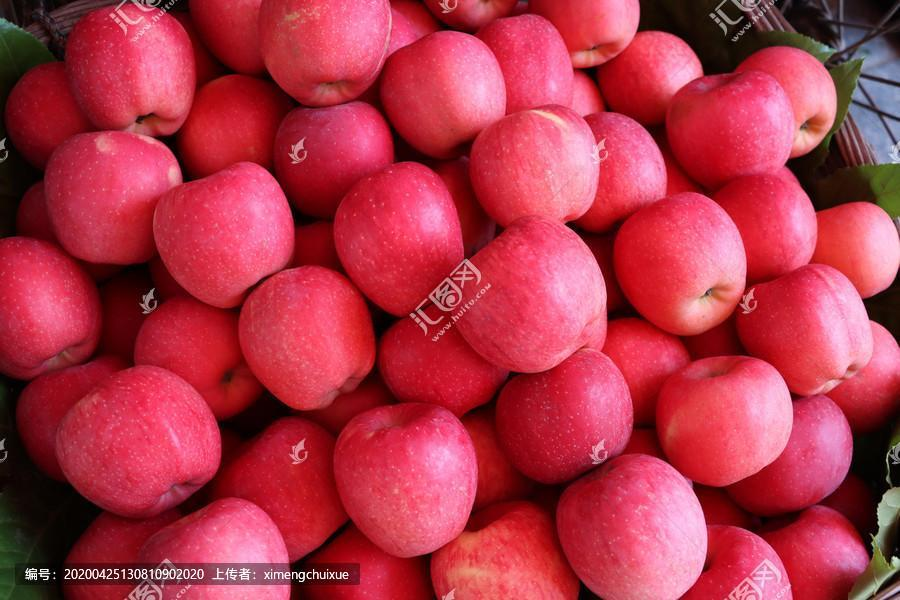apple: (53, 365, 221, 517), (447, 217, 608, 374), (332, 403, 478, 559), (330, 158, 467, 323), (554, 453, 704, 600), (148, 163, 294, 309), (207, 415, 348, 559), (40, 128, 180, 273), (55, 3, 196, 146), (239, 266, 378, 411), (493, 348, 634, 486), (613, 194, 746, 340), (654, 354, 792, 489), (736, 265, 875, 398), (467, 104, 603, 227), (379, 32, 503, 162), (663, 70, 795, 189), (136, 295, 261, 419), (257, 1, 394, 108), (429, 501, 579, 598), (271, 99, 393, 218), (1, 238, 103, 380), (135, 497, 289, 589), (175, 74, 291, 178), (714, 174, 818, 279), (812, 322, 900, 445), (596, 30, 701, 126), (757, 506, 865, 598), (4, 57, 86, 170), (808, 200, 898, 300), (528, 1, 645, 68), (419, 1, 521, 33)
